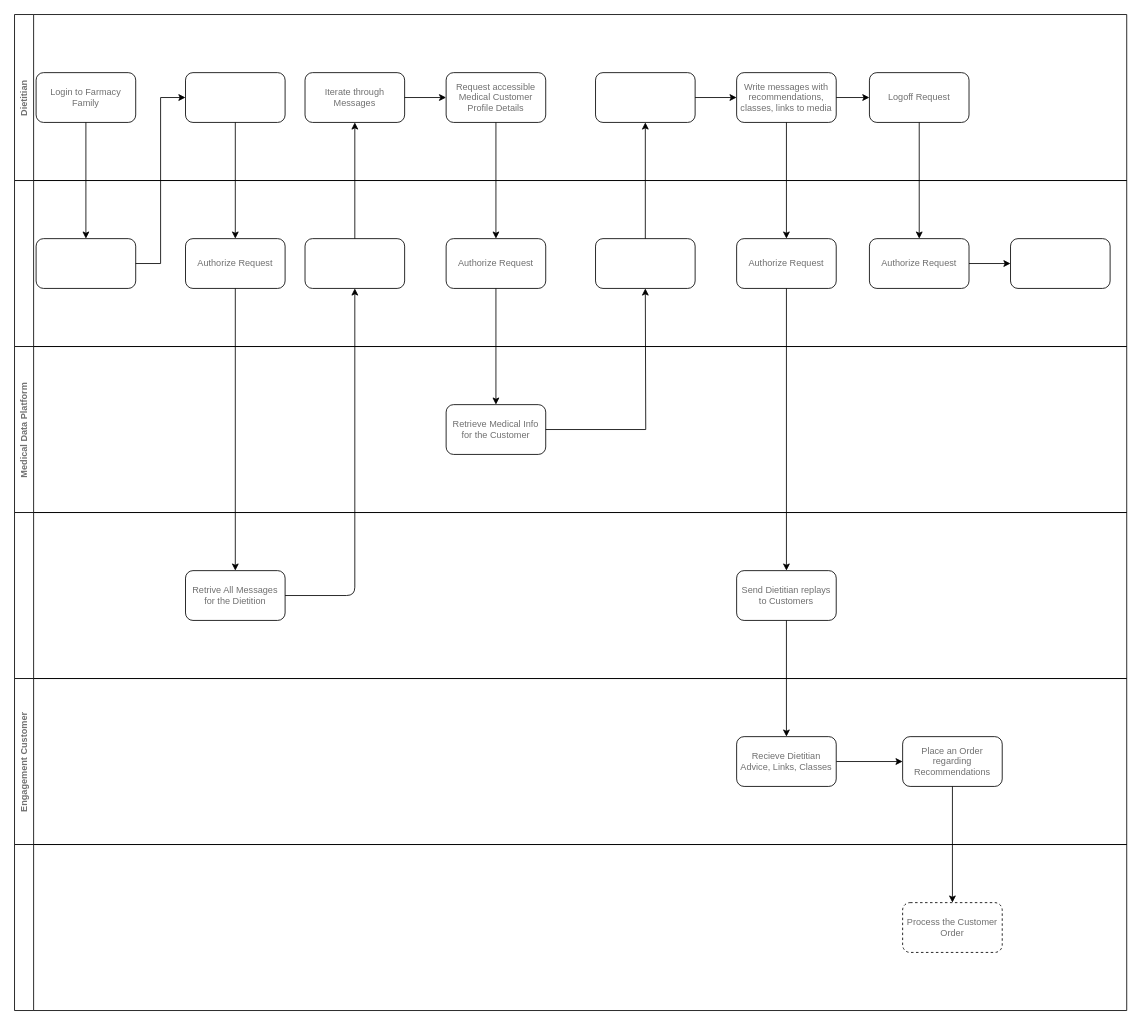
Some shapes in this 1141 by 1025 pixel diagram are drawn without their labels. Each missing label, with the box of its shape:
Add Extended Info: (304, 238, 405, 288)
Add reports & Statistics: (595, 238, 695, 288)
Analyze Customer wellness: (595, 72, 695, 122)
Create Session Token: (35, 238, 136, 288)
Farmacy Family: (14, 180, 1127, 347)
Farmacy Foods: (14, 844, 1127, 1011)
Get Customer Messages: (185, 72, 285, 122)
Logoff Dietitian, Remove token: (1010, 238, 1110, 288)
Omnichannel Messaging Platform: (14, 512, 1127, 679)
